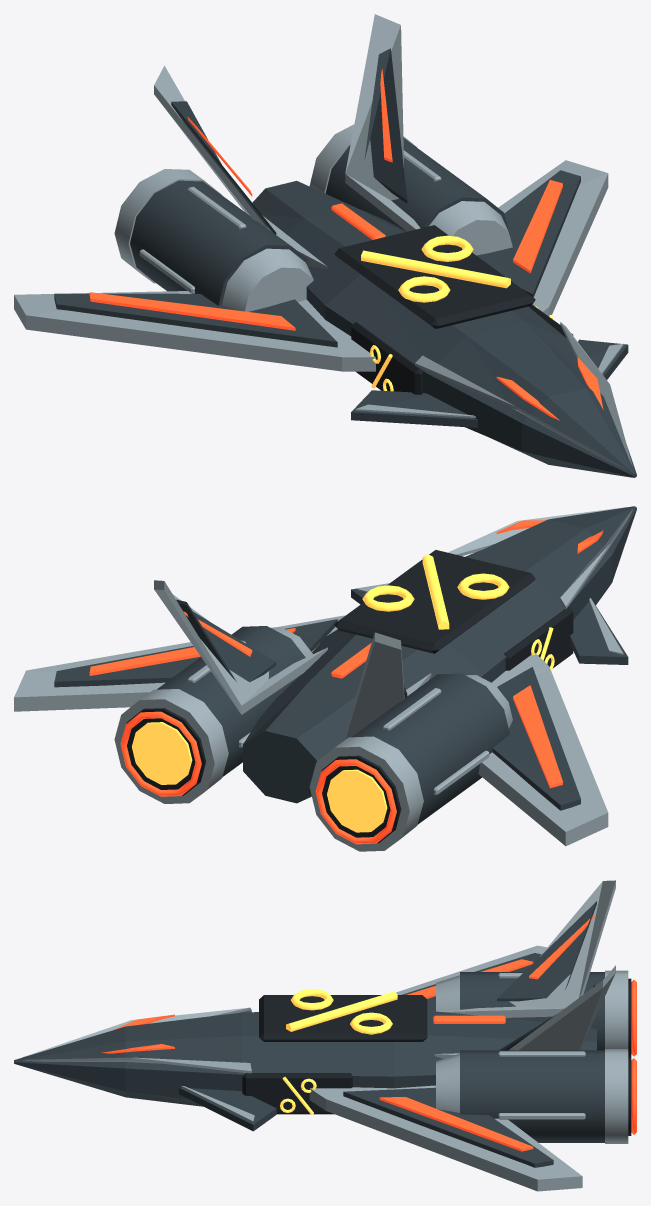
File: debtonator.glb
3 renders of one model, top to bottom at view 1: azimuth 30°, elevation 25°; view 2: azimuth 150°, elevation 25°; view 3: azimuth 270°, elevation 25°, orthographic. The views are drawn at different scales.
Parts seen in each view (by area): view 1: debtonator__01_graphite_armor, debtonator__02_brushed_titanium, debtonator__03_tread_and_recess, debtonator__04_debtonator_vermilion, debtonator__05_thruster_core; view 2: debtonator__01_graphite_armor, debtonator__02_brushed_titanium, debtonator__03_tread_and_recess, debtonator__05_thruster_core, debtonator__04_debtonator_vermilion; view 3: debtonator__01_graphite_armor, debtonator__02_brushed_titanium, debtonator__03_tread_and_recess, debtonator__04_debtonator_vermilion, debtonator__05_thruster_core.
Part boxes in pixels (x1,y1,x2,y2): debtonator__01_graphite_armor: (54, 48, 636, 477); debtonator__02_brushed_titanium: (14, 14, 632, 469); debtonator__03_tread_and_recess: (334, 225, 573, 394); debtonator__04_debtonator_vermilion: (89, 69, 603, 420); debtonator__05_thruster_core: (361, 235, 553, 391); debtonator__01_graphite_armor: (54, 506, 636, 824); debtonator__02_brushed_titanium: (14, 507, 632, 851); debtonator__03_tread_and_recess: (126, 550, 573, 843); debtonator__05_thruster_core: (132, 554, 554, 832); debtonator__04_debtonator_vermilion: (89, 520, 603, 844); debtonator__01_graphite_armor: (14, 901, 604, 1167); debtonator__02_brushed_titanium: (22, 880, 628, 1191); debtonator__03_tread_and_recess: (242, 978, 631, 1135); debtonator__04_debtonator_vermilion: (101, 915, 636, 1151); debtonator__05_thruster_core: (280, 988, 397, 1114).
Bounding box in the file's own units: 1.15 × 0.4119 × 1.29.
